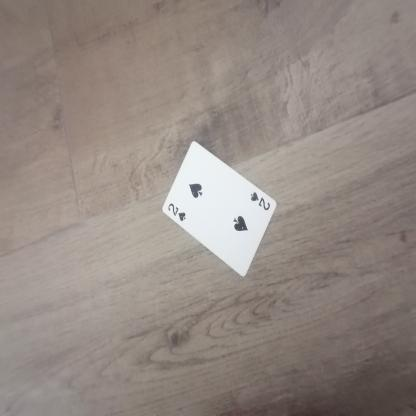2S: (245, 187, 274, 212), (163, 200, 188, 225)
